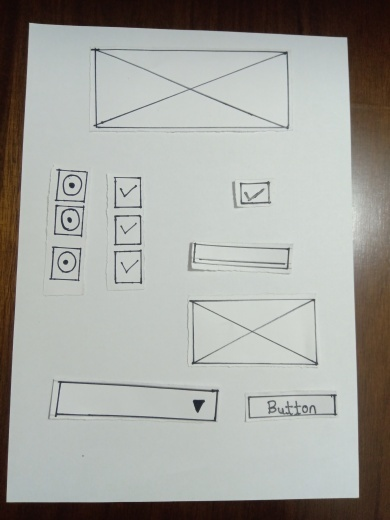button: (247, 394, 335, 416)
checkbox: (114, 176, 140, 209), (113, 254, 139, 287), (115, 214, 141, 247), (238, 185, 269, 202)
dropdown: (47, 385, 221, 423)
img: (95, 49, 288, 134), (189, 291, 321, 368)
radio: (58, 171, 88, 201), (52, 246, 82, 276), (53, 204, 83, 234)
text: (193, 245, 289, 269)
